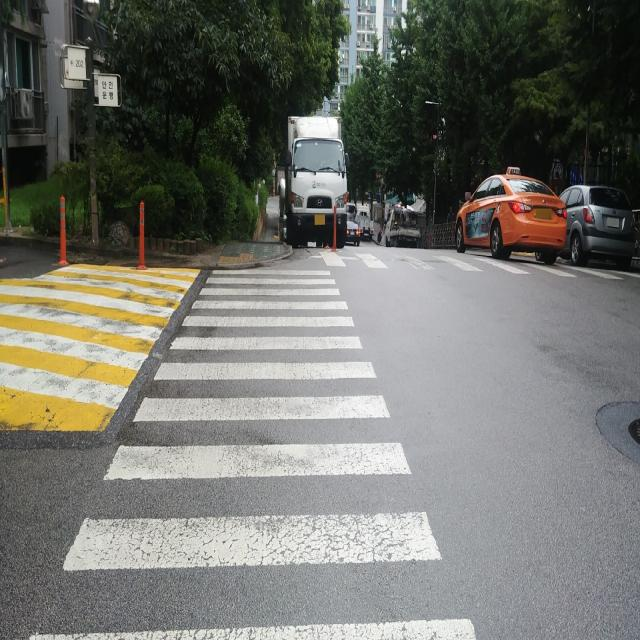횡단보도: (29, 267, 480, 640)
